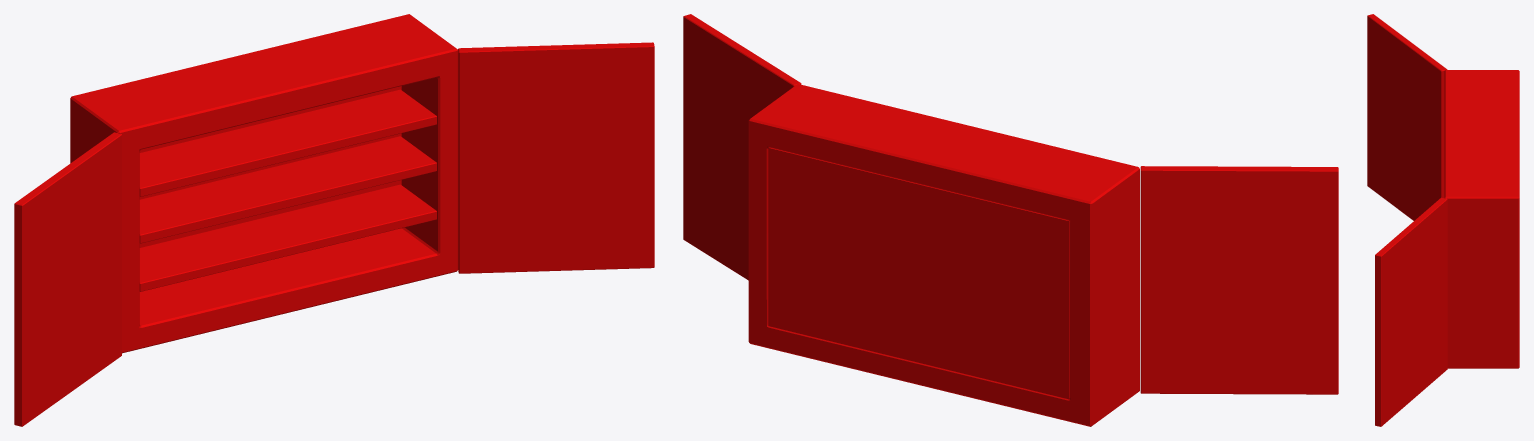
The model's file is Cabinet_high.fbx.
3 renders of one model, left to right at view 1: azimuth 30°, elevation 25°; view 2: azimuth 150°, elevation 25°; view 3: azimuth 270°, elevation 25°, orthographic. The views are drawn at different scales.
Parts seen in each view (by area): view 1: Cabinet_high; view 2: Cabinet_high; view 3: Cabinet_high.
Boxes of the visible parts, <box> form: Cabinet_high: <box>14,14,654,426</box>; Cabinet_high: <box>683,14,1338,426</box>; Cabinet_high: <box>1367,14,1519,426</box>.
Size of the model in its own units: 15.1 by 5 by 4.01.
